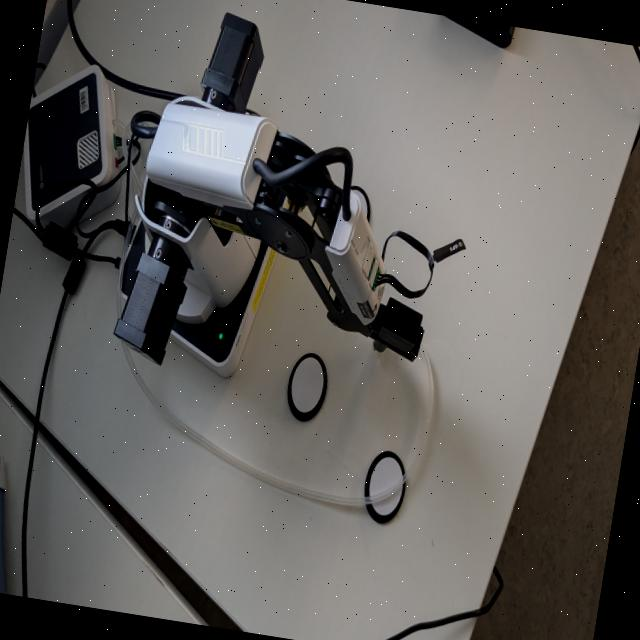Robot-end-effector-HF8z: (366, 290, 433, 369)
